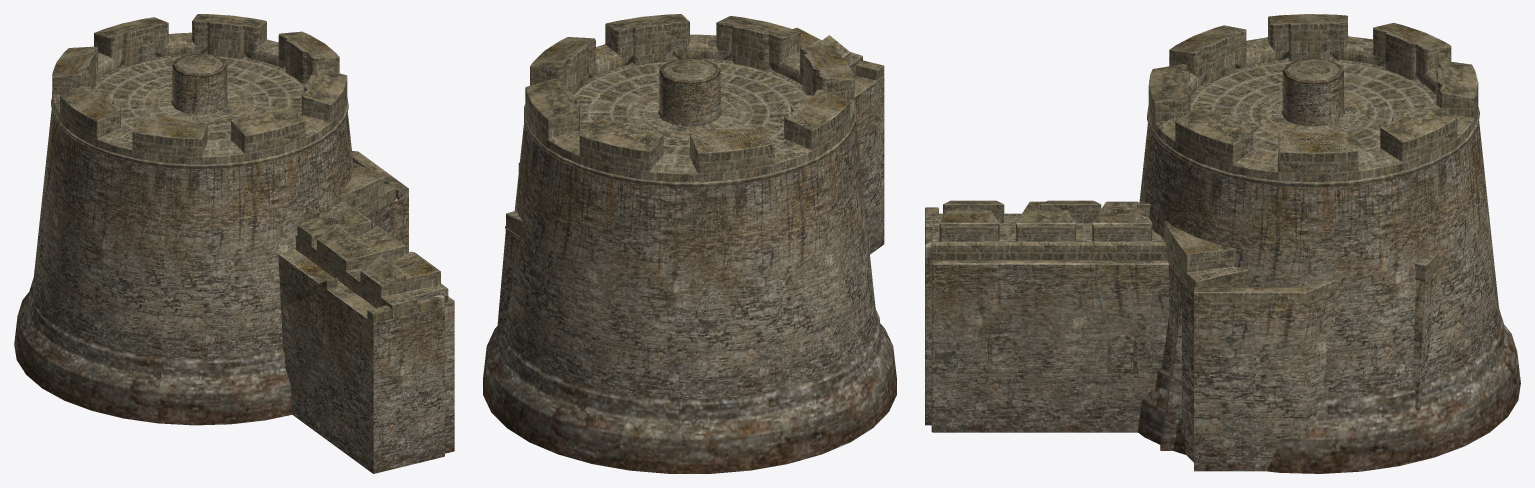
Rendered from fort_kit.57b70b0054.glb.
3 renders of one model, left to right at view 1: azimuth 30°, elevation 25°; view 2: azimuth 150°, elevation 25°; view 3: azimuth 270°, elevation 25°, orthographic. The views are drawn at different scales.
Parts seen in each view (by area): view 1: fort_tower_round, fort_wall_stairs_straight_01, fort_wall_walkway_straight_01, fort_wall_thick_straight_01, fort_wall_thick_straight_02, fort_wall_thick_corner_02, fort_wall_thin_straight_01, fort_wall_thin_straight_02, fort_wall_walkway_straight_02, fort_wall_walkway_corner_01; view 2: fort_tower_round, fort_wall_walkway_straight_01, fort_wall_thin_corner_03, fort_wall_stairs_straight_01; view 3: fort_tower_round, fort_wall_thick_straight_01, fort_wall_walkway_corner_01, fort_wall_thick_straight_02, fort_wall_thick_corner_02, fort_wall_thin_corner_03, fort_wall_thin_straight_02, fort_wall_thick_corner_01, fort_wall_stairs_straight_01.
Boxes of the visible parts, x1,y1,x2,y2 form: fort_tower_round: (14, 14, 353, 425); fort_wall_stairs_straight_01: (281, 278, 444, 473); fort_wall_walkway_straight_01: (278, 254, 370, 470); fort_wall_thick_straight_01: (297, 201, 454, 453); fort_wall_thick_straight_02: (298, 202, 447, 296); fort_wall_thick_corner_02: (332, 162, 395, 236); fort_wall_thin_straight_01: (297, 218, 413, 308); fort_wall_thin_straight_02: (295, 207, 416, 317); fort_wall_walkway_straight_02: (279, 249, 375, 432); fort_wall_walkway_corner_01: (352, 151, 408, 253); fort_tower_round: (483, 14, 896, 473); fort_wall_walkway_straight_01: (854, 79, 880, 253); fort_wall_thin_corner_03: (495, 210, 522, 347); fort_wall_stairs_straight_01: (854, 60, 884, 254); fort_tower_round: (1138, 14, 1520, 473); fort_wall_thick_straight_01: (931, 201, 1168, 432); fort_wall_walkway_corner_01: (1194, 280, 1335, 471); fort_wall_thick_straight_02: (932, 202, 1168, 431); fort_wall_thick_corner_02: (1163, 220, 1247, 462); fort_wall_thin_corner_03: (1412, 252, 1439, 412); fort_wall_thin_straight_02: (925, 200, 1150, 231); fort_wall_thick_corner_01: (1160, 306, 1181, 450); fort_wall_stairs_straight_01: (925, 207, 938, 425).
Size of the model in its own units: 15.84 by 13.67 by 22.74.
Materials: 3 (3 with a texture image).
